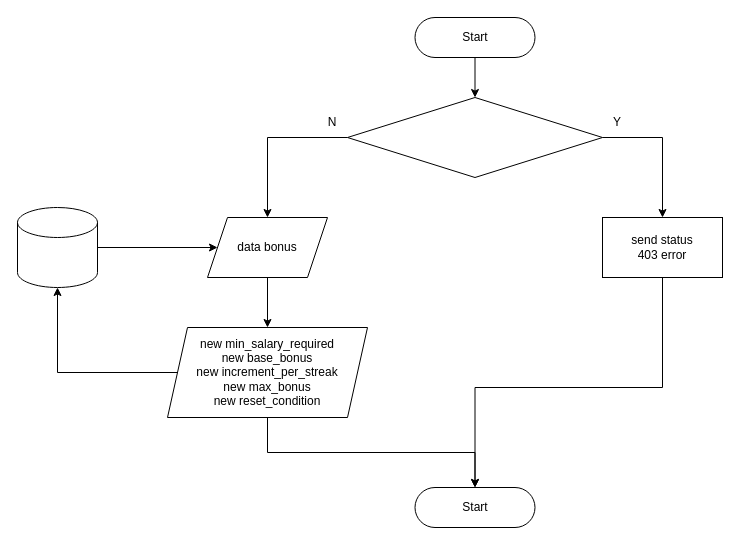
The diagram is 740 pixels wide and 545 high, and some of its shapes have lost their labels. The centre of each missing label's shape, as x and y in pixels:
"bonus_logic" goes at point 57,247.
"if deps != hr && manager || supervisor" goes at point 474,137.
